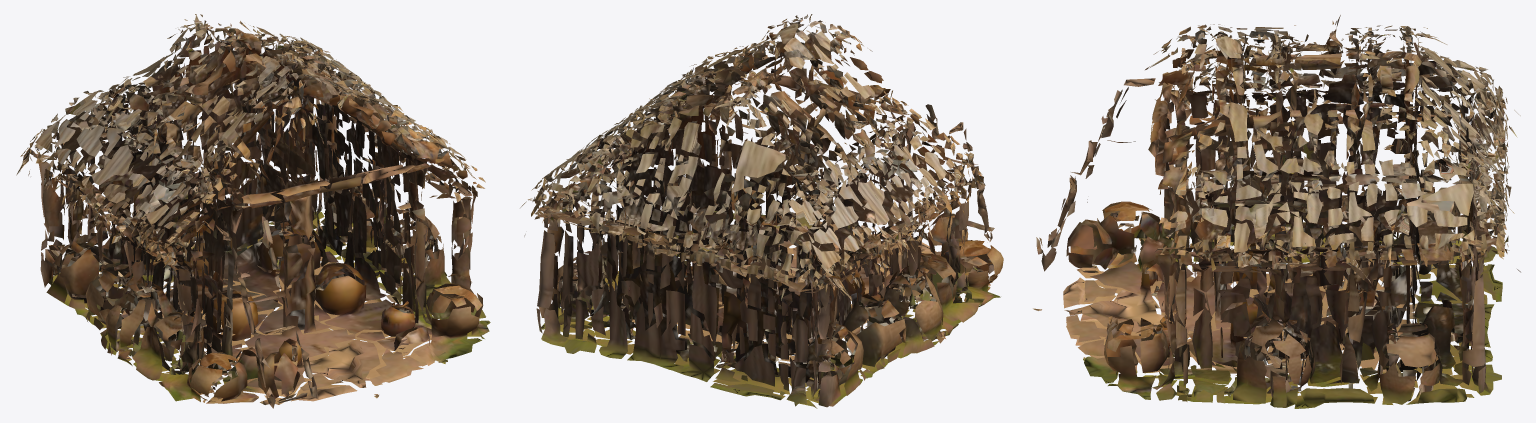
File: kornspeicher.glb
3 renders of one model, left to right at view 1: azimuth 30°, elevation 25°; view 2: azimuth 150°, elevation 25°; view 3: azimuth 270°, elevation 25°, orthographic. The views are drawn at different scales.
Bounding box in the file's own units: 1.57 × 1.22 × 1.8.
1 material, 1 textured.
